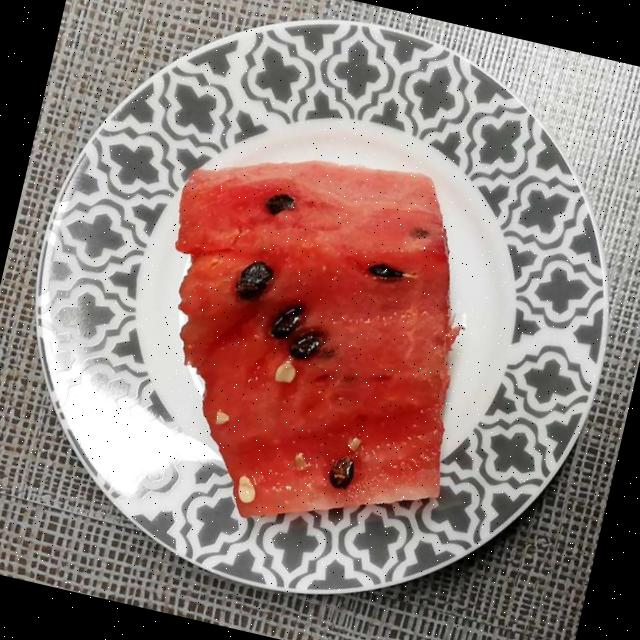watermelon-fresh: (177, 162, 450, 517)
